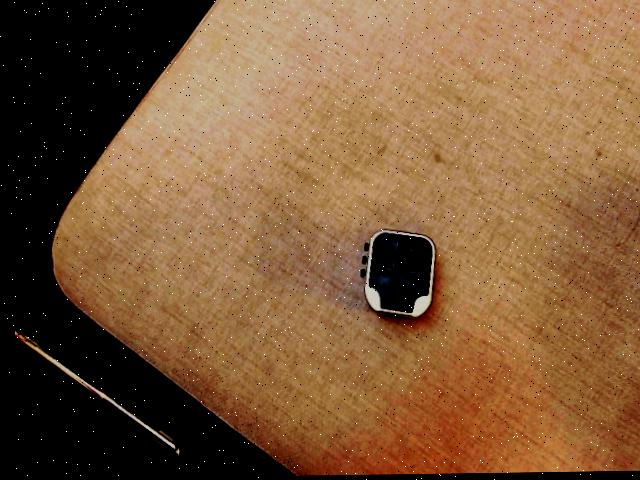adapter: (356, 229, 435, 320)
